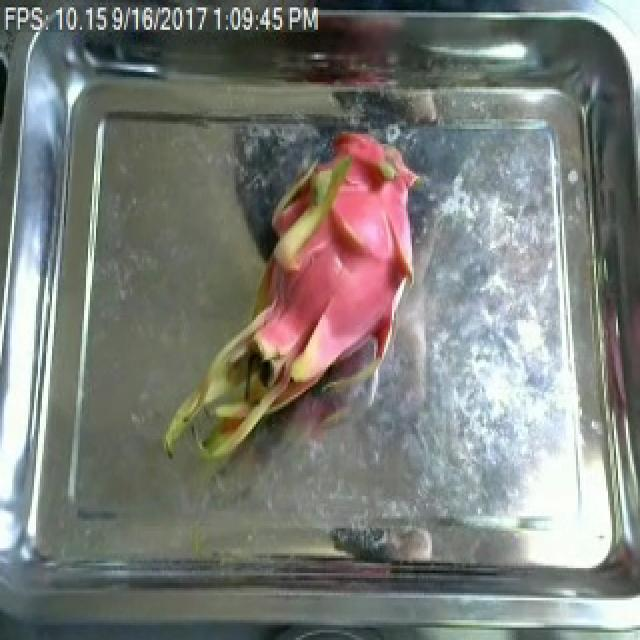fruit: (146, 112, 424, 491)
